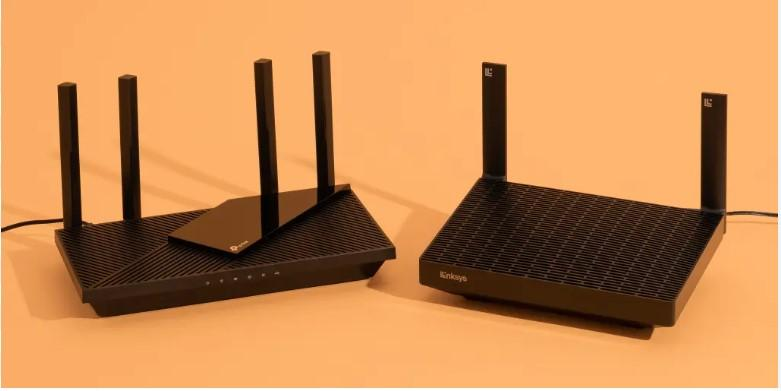Router: (53, 52, 397, 318), (419, 62, 727, 327)
